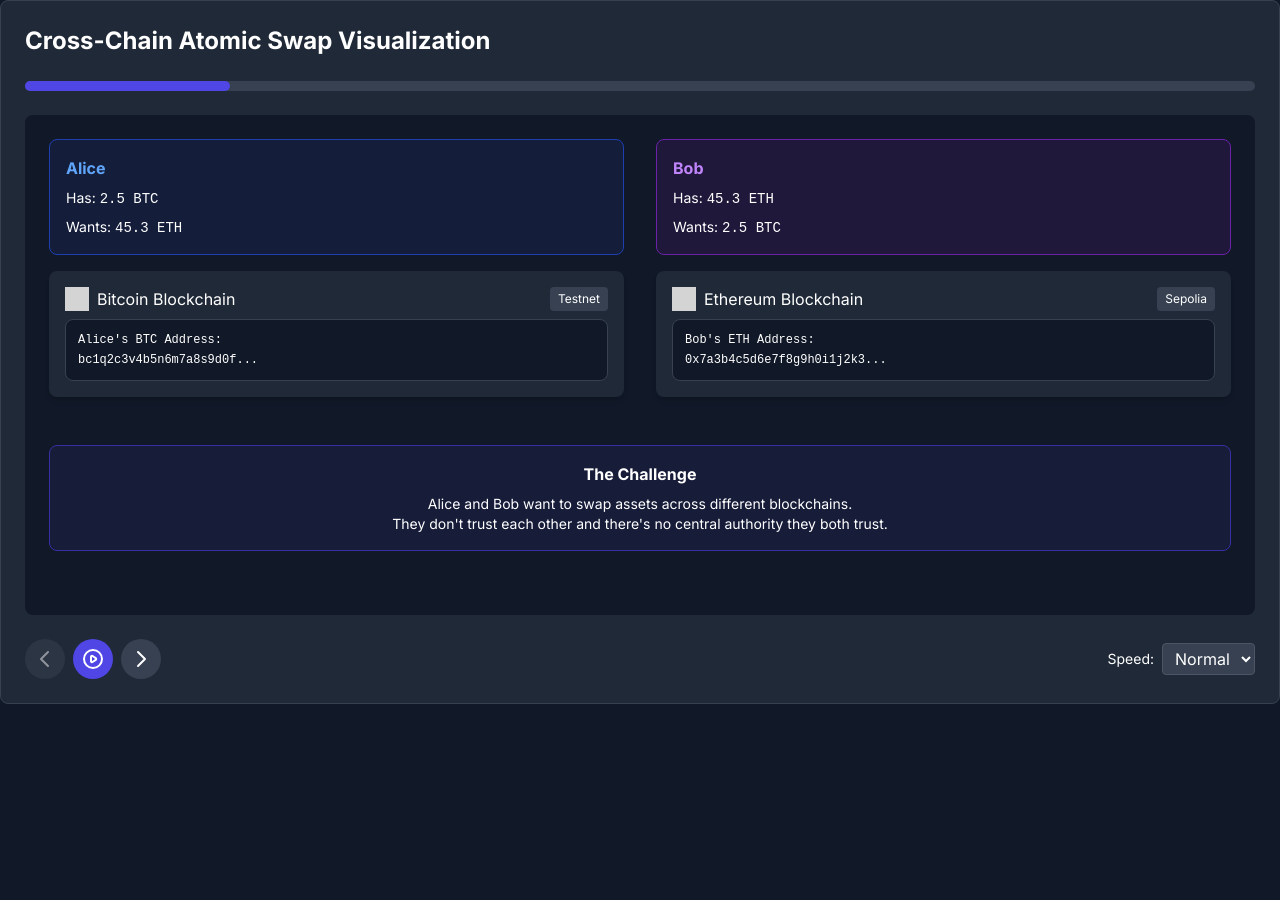
AtomicSwapVisualizer Component › can navigate through the steps
This screenshot has width=1280, height=900.
# Click the next button
Click the button named "next": (141, 659) [121,639,161,679]
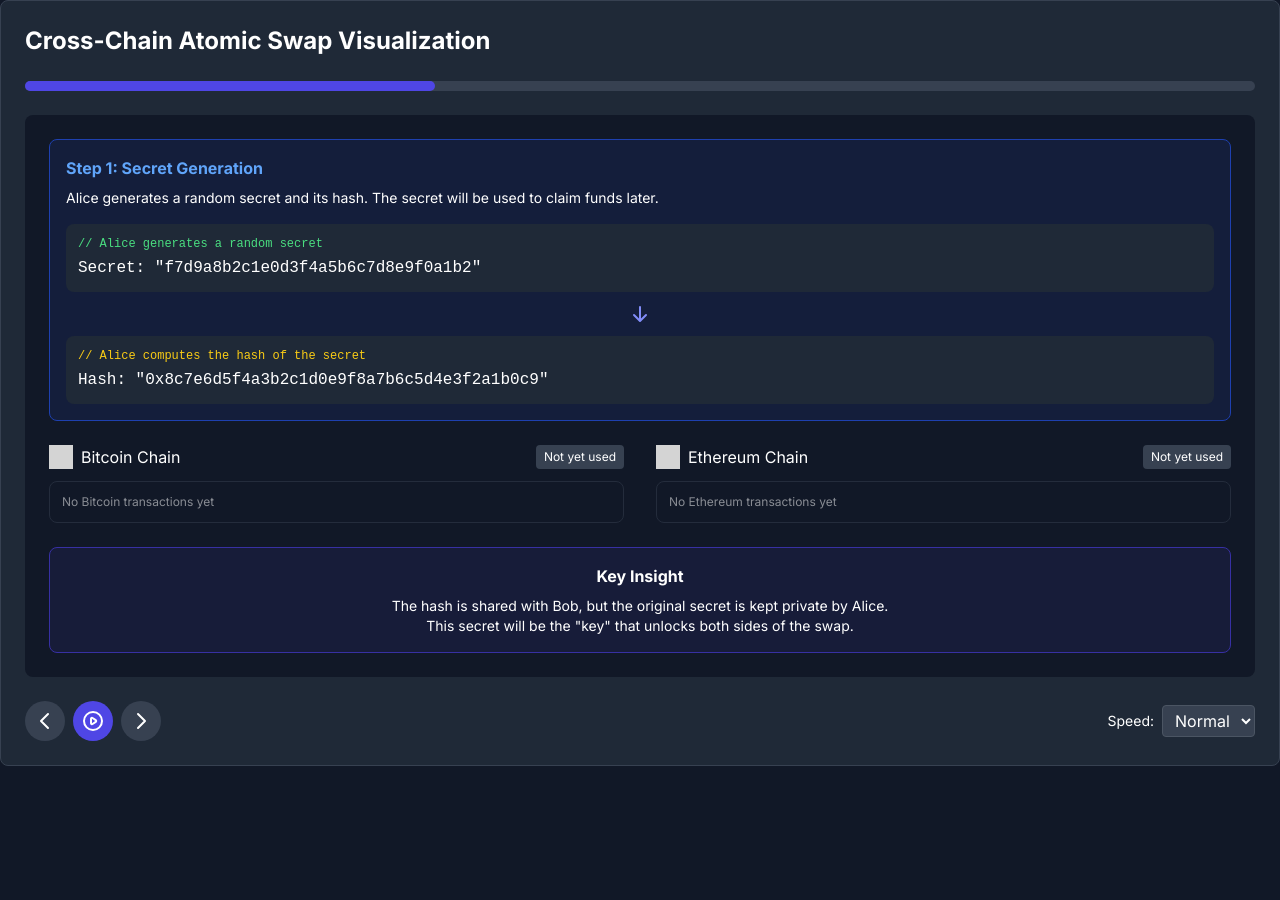
Now the heading "Step 1: Secret Generation" is shown, box [66,158,263,178]
# Click next again
Click the button named "next": (141, 721) [121,701,161,741]
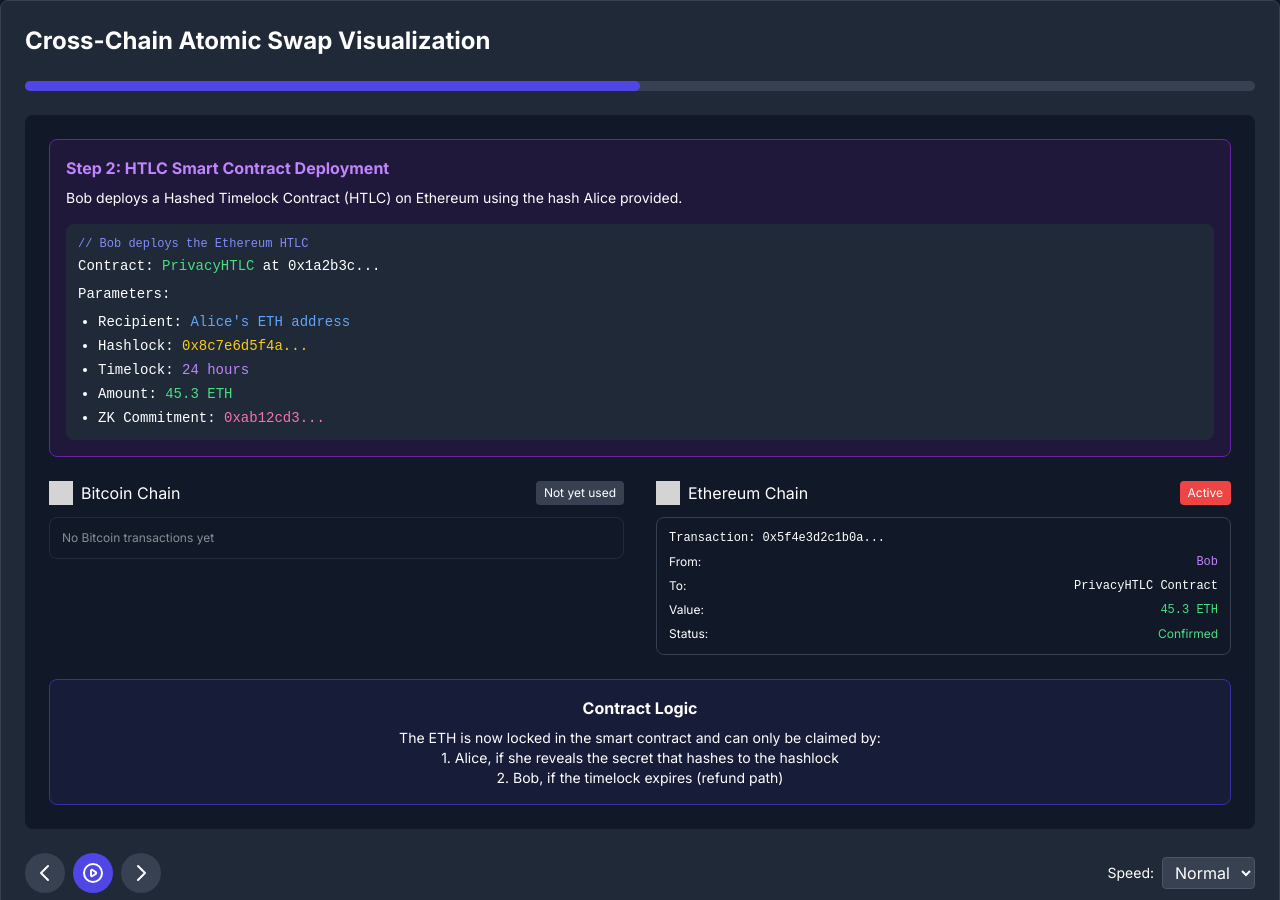
Now the heading "Step 2: HTLC Smart Contract Deployment" is shown, box [66,158,389,178]
